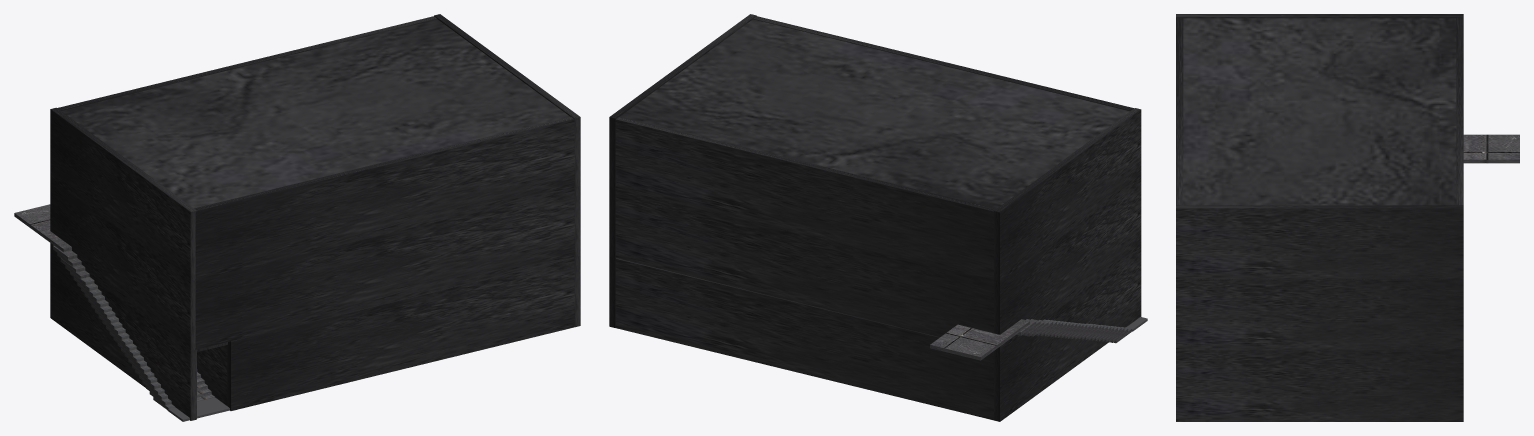
Rendered from Bar.fbx.
The picture shows the model from 3 angles, left to right: view 1: azimuth 30°, elevation 25°; view 2: azimuth 150°, elevation 25°; view 3: azimuth 270°, elevation 25°; orthographic projection. The views are drawn at different scales.
Visible parts, largest first — view 1: Techo_Cube.023, Pared3erPiso_Cube.022, Pared2doPiso02_Cube.010, Pared1erPiso03_Cube.005, EscalerasPrinicipales_Cubo.035; view 2: Techo_Cube.023, Pared3erPiso_Cube.022, Pared2doPiso02_Cube.010, Pared1erPiso03_Cube.005, EscalerasPrinicipales_Cubo.035; view 3: Techo_Cube.023, Pared3erPiso_Cube.022, Pared1erPiso03_Cube.005, Pared2doPiso02_Cube.010, EscalerasPrinicipales_Cubo.035.
Part boxes in pixels (bbox=[...]): Techo_Cube.023: bbox=[61, 19, 569, 208]; Pared3erPiso_Cube.022: bbox=[50, 14, 580, 281]; Pared2doPiso02_Cube.010: bbox=[50, 179, 580, 352]; Pared1erPiso03_Cube.005: bbox=[50, 248, 580, 420]; EscalerasPrinicipales_Cubo.035: bbox=[14, 204, 229, 421]; Techo_Cube.023: bbox=[620, 19, 1129, 208]; Pared3erPiso_Cube.022: bbox=[609, 14, 1141, 282]; Pared2doPiso02_Cube.010: bbox=[609, 179, 1141, 351]; Pared1erPiso03_Cube.005: bbox=[609, 249, 1141, 421]; EscalerasPrinicipales_Cubo.035: bbox=[930, 317, 1147, 360]; Techo_Cube.023: bbox=[1183, 18, 1456, 205]; Pared3erPiso_Cube.022: bbox=[1176, 14, 1463, 279]; Pared1erPiso03_Cube.005: bbox=[1176, 350, 1463, 421]; Pared2doPiso02_Cube.010: bbox=[1176, 279, 1463, 350]; EscalerasPrinicipales_Cubo.035: bbox=[1463, 134, 1519, 163].
Size of the model in its own units: 3591 by 1813 by 2622.
